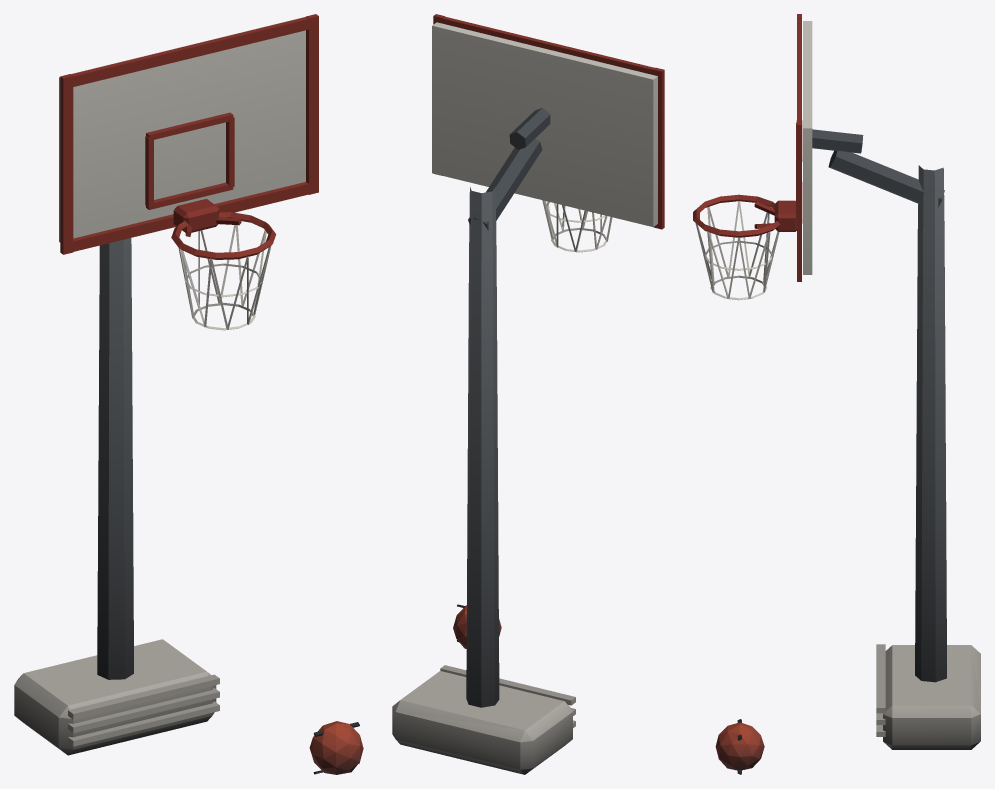
Rendered from basketball_hoop.glb.
The picture shows the model from 3 angles, left to right: view 1: azimuth 30°, elevation 25°; view 2: azimuth 150°, elevation 25°; view 3: azimuth 270°, elevation 25°; orthographic projection. The views are drawn at different scales.
Visible parts, largest first — view 1: basketball_hoop; view 2: basketball_hoop; view 3: basketball_hoop.
Boxes of the visible parts, left/top/right/bottom form: basketball_hoop: left=14, top=14, right=363, bottom=774; basketball_hoop: left=392, top=14, right=664, bottom=774; basketball_hoop: left=693, top=14, right=980, bottom=774.
Bounding box in the file's own units: 1.45 × 3.81 × 1.53.
